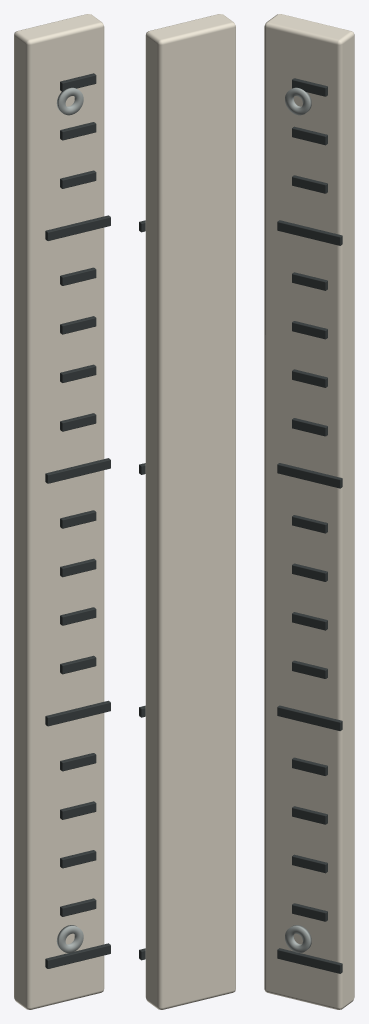
File: canal-boats-and-lock-operations-canal-boats-and-lock-o-965c67df__31659.glb
3 renders of one model, left to right at view 1: azimuth 30°, elevation 25°; view 2: azimuth 210°, elevation 25°; view 3: azimuth 330°, elevation 25°, orthographic.
Parts seen in each view (by area): view 1: canal-boats-and-lock-operations-depth-gauge-board; view 2: canal-boats-and-lock-operations-depth-gauge-board; view 3: canal-boats-and-lock-operations-depth-gauge-board.
Boxes of the visible parts, bbox=[...] form: canal-boats-and-lock-operations-depth-gauge-board: bbox=[14, 14, 110, 1009]; canal-boats-and-lock-operations-depth-gauge-board: bbox=[139, 14, 235, 1009]; canal-boats-and-lock-operations-depth-gauge-board: bbox=[264, 14, 354, 1009].
Size of the model in its own units: 0.165 by 1.9 by 0.0715.
